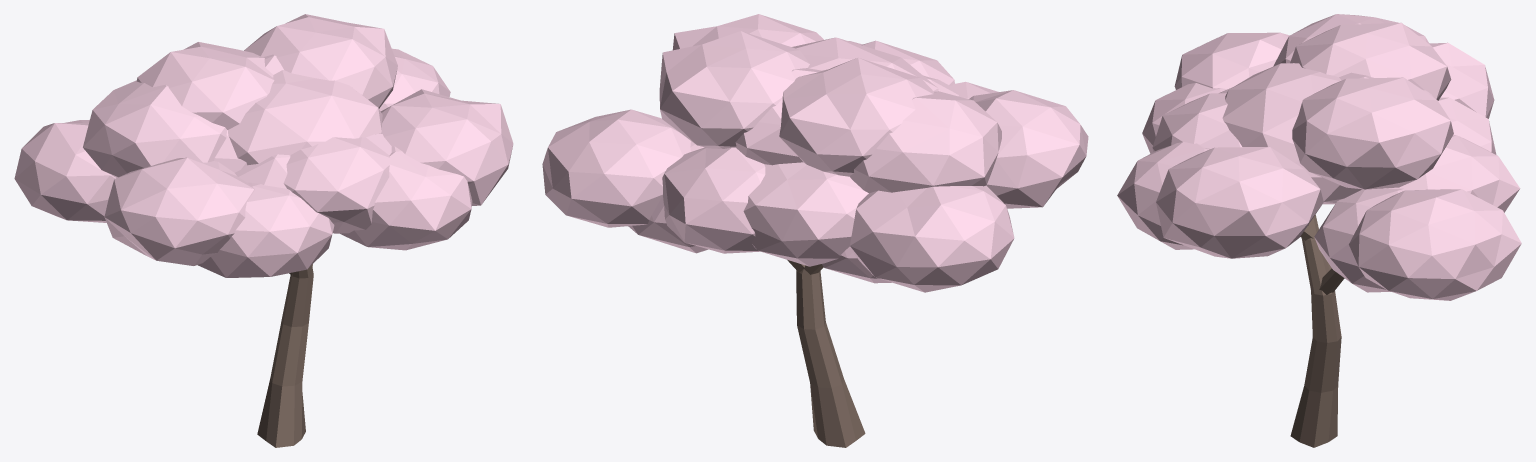
The model's file is tree_sakura.glb.
The picture shows the model from 3 angles, left to right: view 1: azimuth 30°, elevation 25°; view 2: azimuth 150°, elevation 25°; view 3: azimuth 270°, elevation 25°; orthographic projection. The views are drawn at different scales.
Visible parts, largest first — view 1: tree_sakura; view 2: tree_sakura; view 3: tree_sakura.
Boxes of the visible parts, x1,y1,x2,y2 form: tree_sakura: (14, 14, 513, 447); tree_sakura: (542, 14, 1088, 447); tree_sakura: (1117, 14, 1521, 447).
Size of the model in its own units: 8.25 by 6.98 by 6.74.
